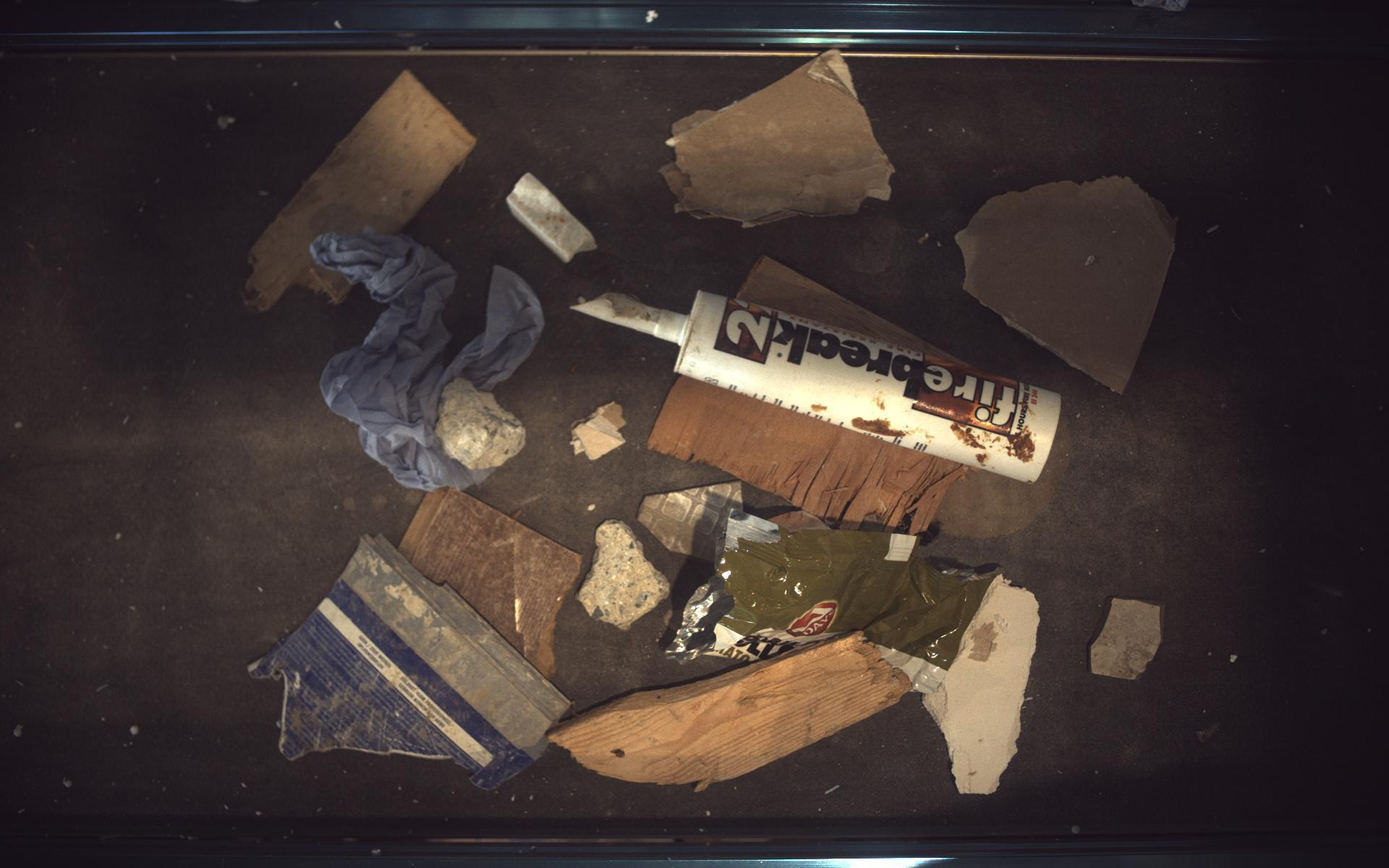concrete: (578, 520, 671, 631), (435, 378, 526, 470)
general_w: (310, 229, 544, 491), (670, 513, 998, 694)
gypsum_board: (958, 175, 1178, 393), (660, 48, 896, 226), (925, 576, 1042, 796), (572, 402, 626, 461)
plastic: (572, 291, 1063, 482), (249, 536, 570, 791)
tile: (638, 482, 743, 561), (507, 171, 597, 263), (1093, 599, 1165, 681)
wood: (550, 633, 912, 792), (243, 69, 475, 310), (650, 376, 967, 535), (399, 488, 582, 678), (737, 255, 963, 362)
